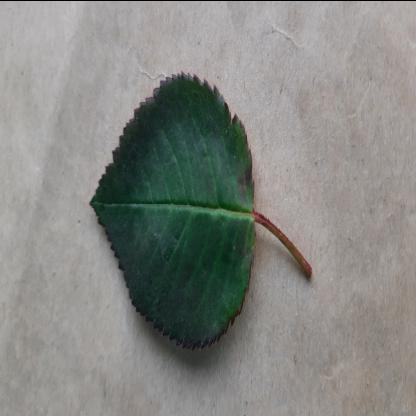downy-mildew: (88, 63, 259, 352)
